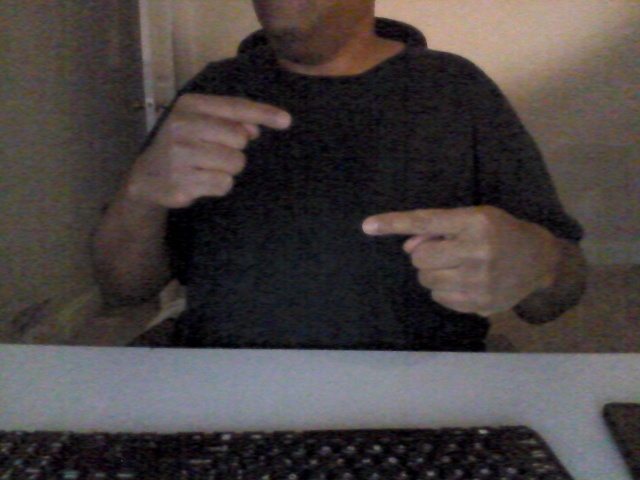go: (140, 90, 546, 326)
